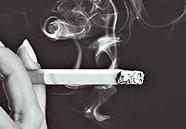smoke: (4, 69, 145, 85)
